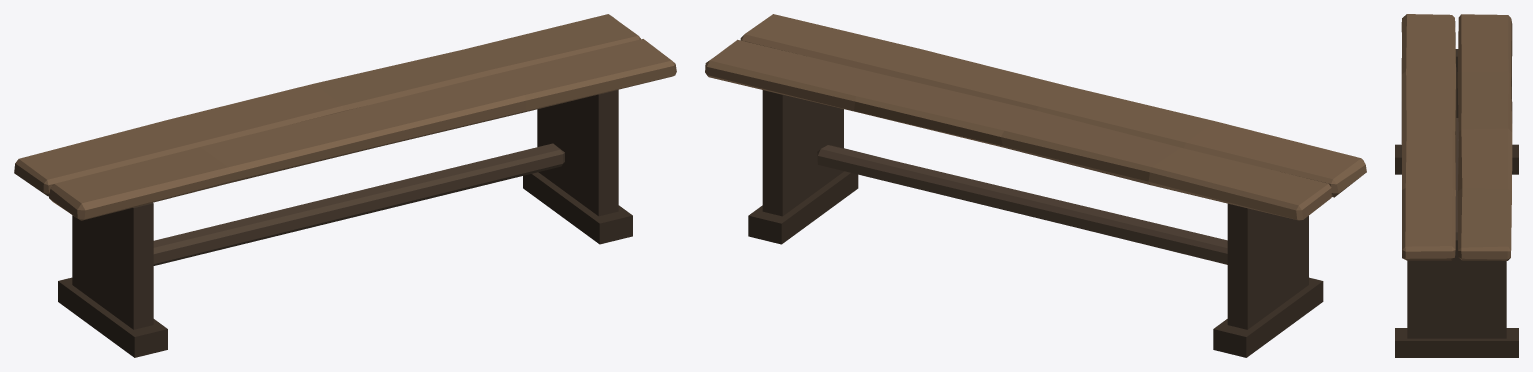
The model's file is bench.glb.
3 views of the same model, side by side, from view 1: azimuth 30°, elevation 25°; view 2: azimuth 150°, elevation 25°; view 3: azimuth 270°, elevation 25° (orthographic). The views are drawn at different scales.
Parts seen in each view (by area): view 1: bench; view 2: bench; view 3: bench.
Boxes of the visible parts, left/top/right/bottom form: bench: left=14, top=14, right=676, bottom=357; bench: left=705, top=14, right=1366, bottom=357; bench: left=1395, top=14, right=1518, bottom=357.
Size of what is drawn, in the model's own units: 1.81 by 0.4662 by 0.4.
